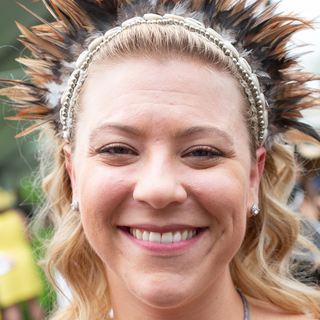eye: (177, 141, 229, 165), (93, 140, 142, 164)
